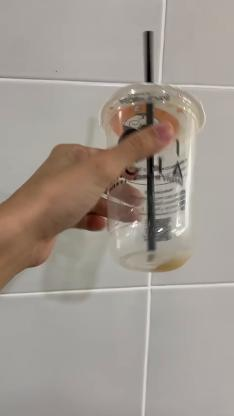Plastic Cup: (101, 81, 205, 274)
